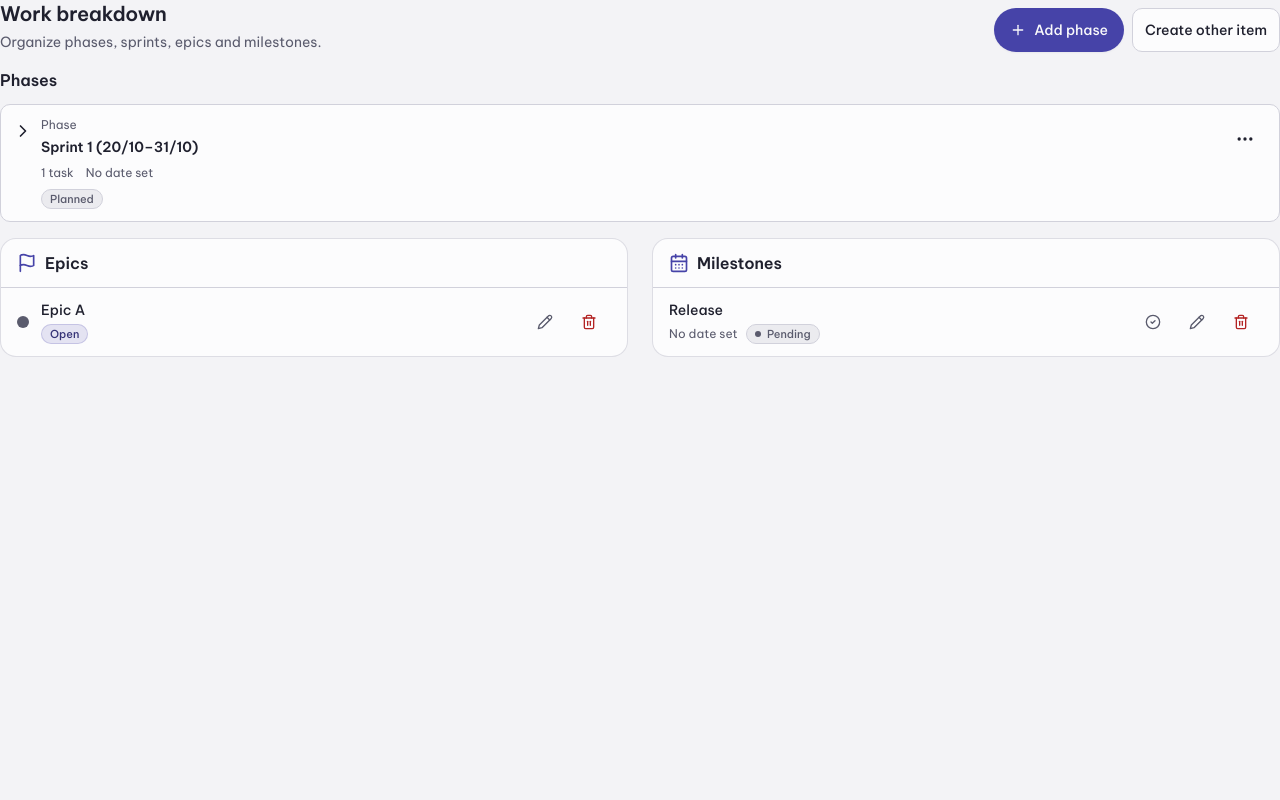
WBS localization (en) › labels the addSprint editor
The image size is (1280, 800).
Click the heading named "Actions for Sprint 1 (20/10–31/10)".
click(1245, 139)  # box [1235,129,1255,149]
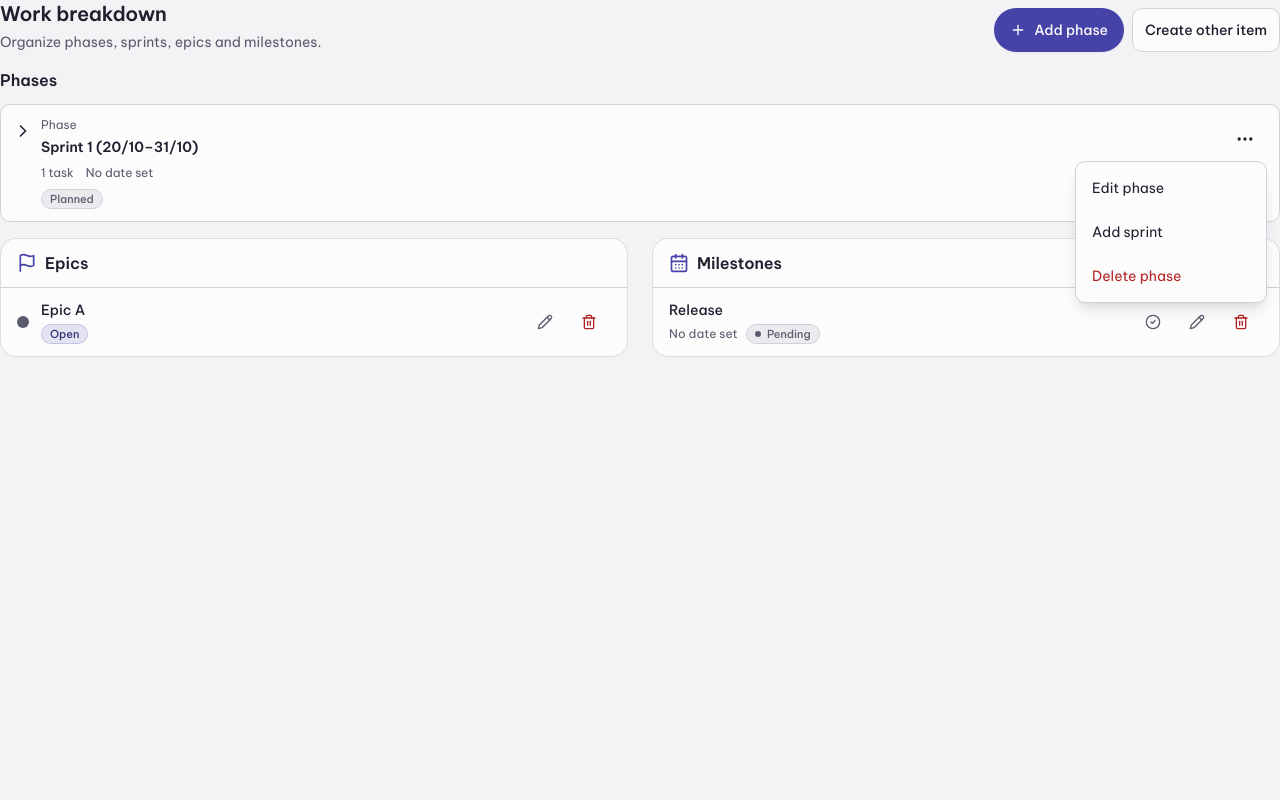
Click the button "Add sprint".
click(1171, 232)  # box [1080,210,1262,254]
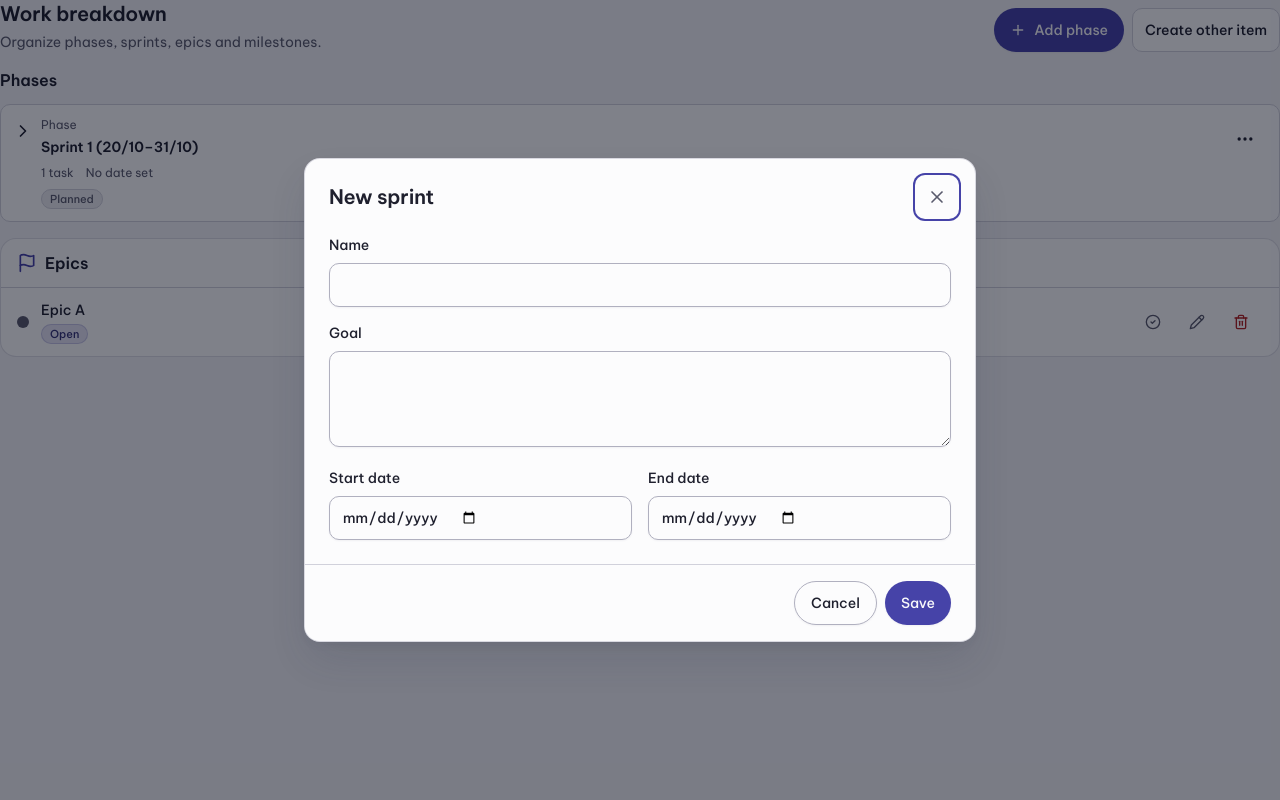
Check: the field labelled "Name" is shown, box [329,263,951,307]
Check: the text box labelled "Goal" is shown, box [329,351,951,447]
Check: the date field labelled "Start date" is shown, box [329,496,632,540]
Click the button "Cancel".
click(835, 603)  # box [794,581,877,625]
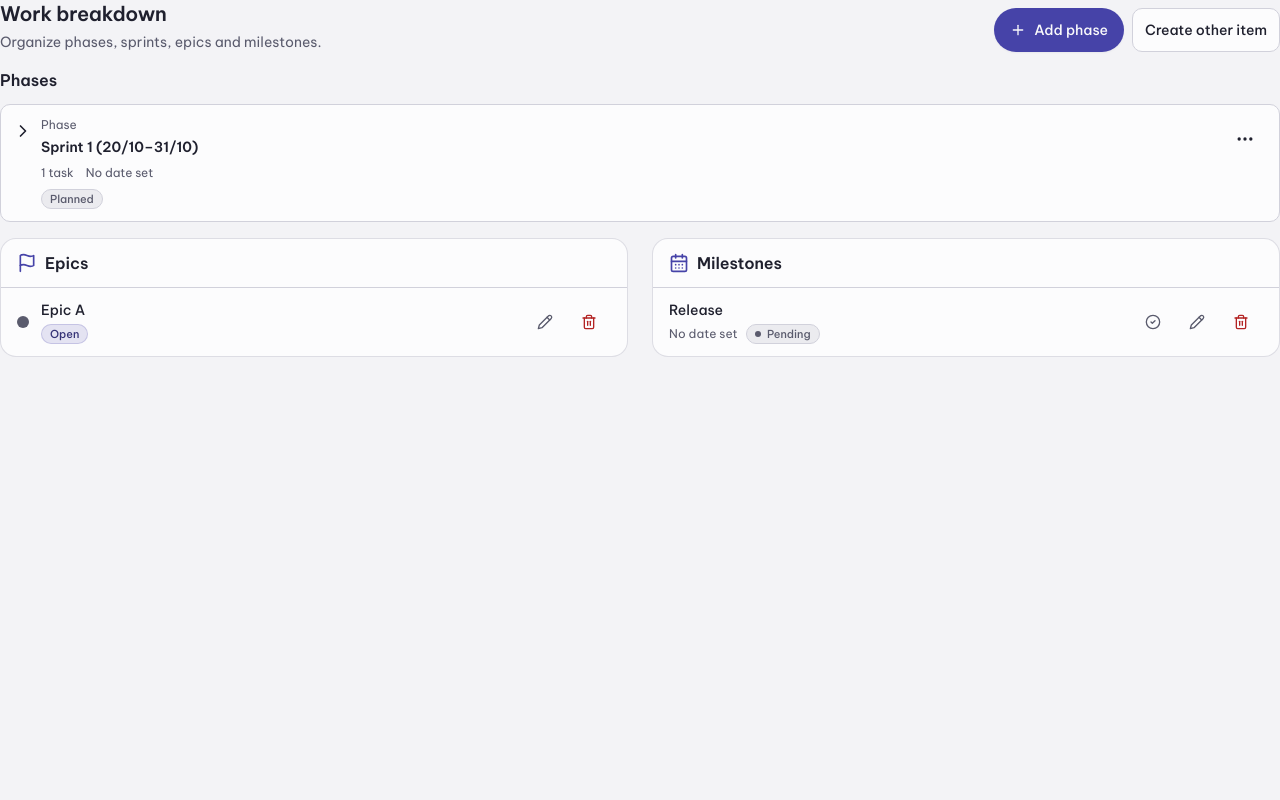
Check: the dialog is gone
